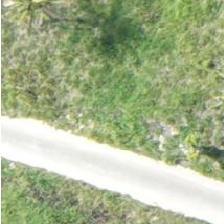Kelapa_Sawit: (0, 0, 74, 49)
